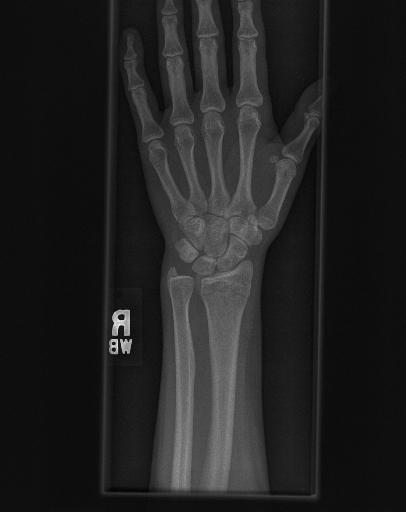fractured: (198, 273, 258, 307)
